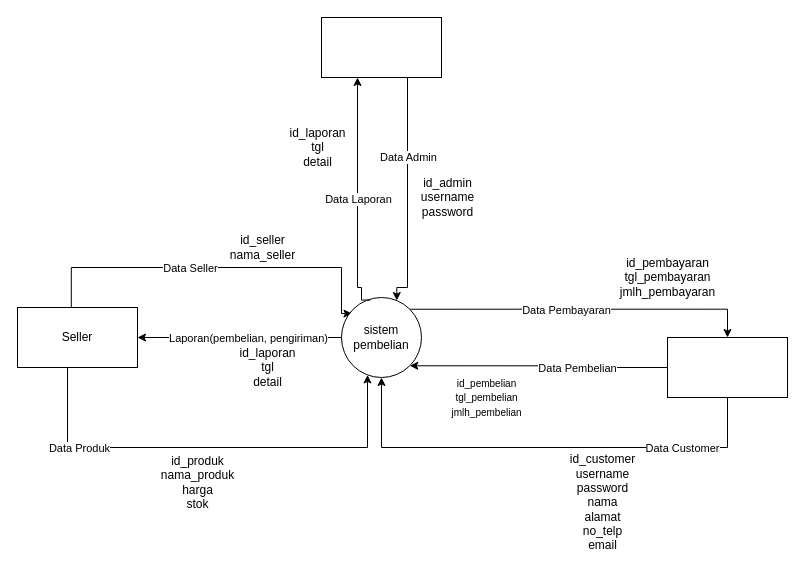
The diagram is 805 pixels wide and 575 high, and some of its shapes have lost their labels. The shapes that lost their labels are listed below. From the top down, each one's centre as x and y in pixels, then its label:
At point (381, 47): "Admin".
At point (727, 367): "Customer".
